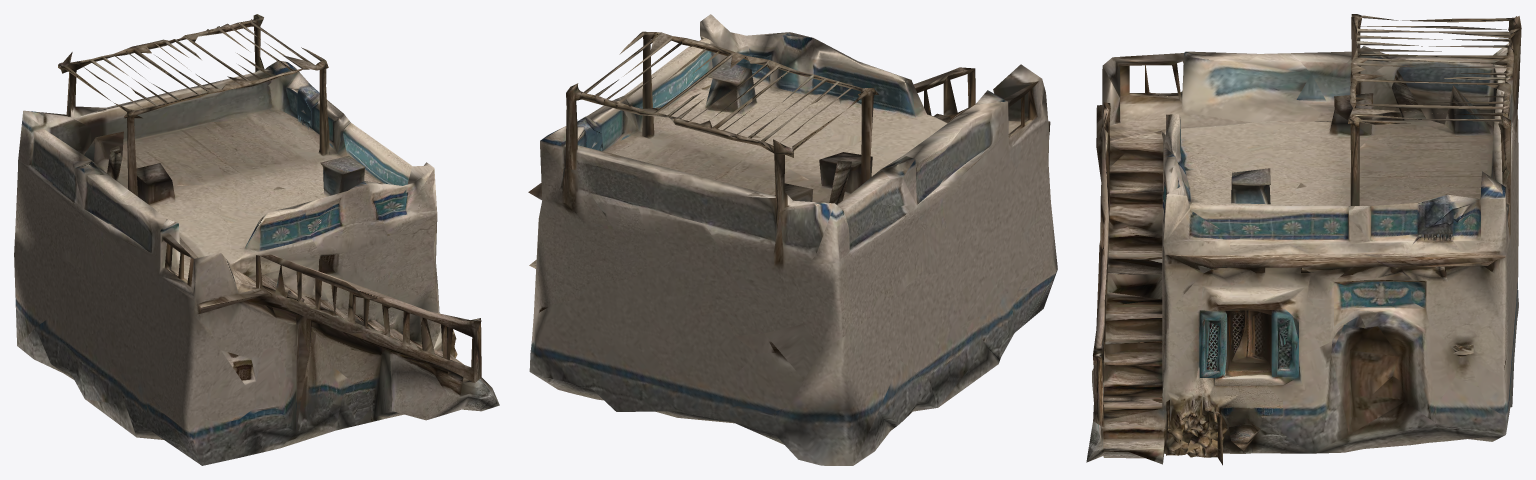
The model's file is house_generic_c.glb.
3 views of the same model, side by side, from view 1: azimuth 30°, elevation 25°; view 2: azimuth 150°, elevation 25°; view 3: azimuth 270°, elevation 25° (orthographic). The views are drawn at different scales.
Parts seen in each view (by area): view 1: tripo_node_74c7015e-0876-4b5f-9c3c-cbb3f68648d4; view 2: tripo_node_74c7015e-0876-4b5f-9c3c-cbb3f68648d4; view 3: tripo_node_74c7015e-0876-4b5f-9c3c-cbb3f68648d4.
Part boxes in pixels (box(x1,y1,x2,y2)): tripo_node_74c7015e-0876-4b5f-9c3c-cbb3f68648d4: box(14, 14, 499, 465); tripo_node_74c7015e-0876-4b5f-9c3c-cbb3f68648d4: box(528, 14, 1057, 465); tripo_node_74c7015e-0876-4b5f-9c3c-cbb3f68648d4: box(1086, 14, 1521, 465).
Bounding box in the file's own units: 0.9225 × 0.7853 × 0.9784.
Materials: 1 (1 with a texture image).
